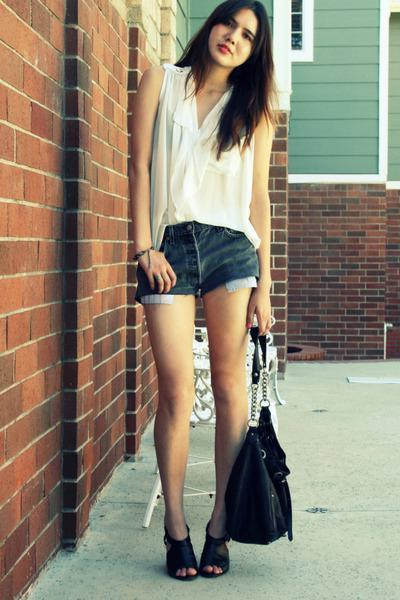Shorts: (132, 213, 260, 308)
short sleeve shirt: (144, 63, 264, 251)
